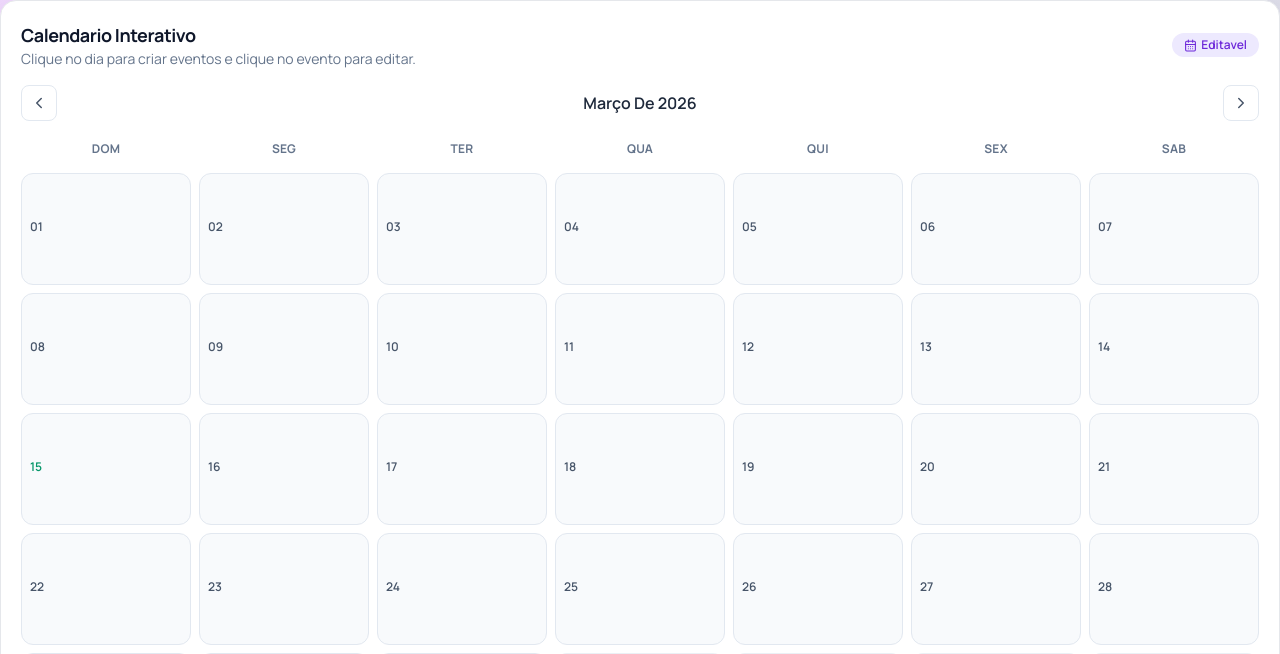
Scenario: InteractiveCalendar › cria um novo evento ao clicar em um dia
Click the 1st button "01". click: (106, 229)
box: [21,173,191,285]
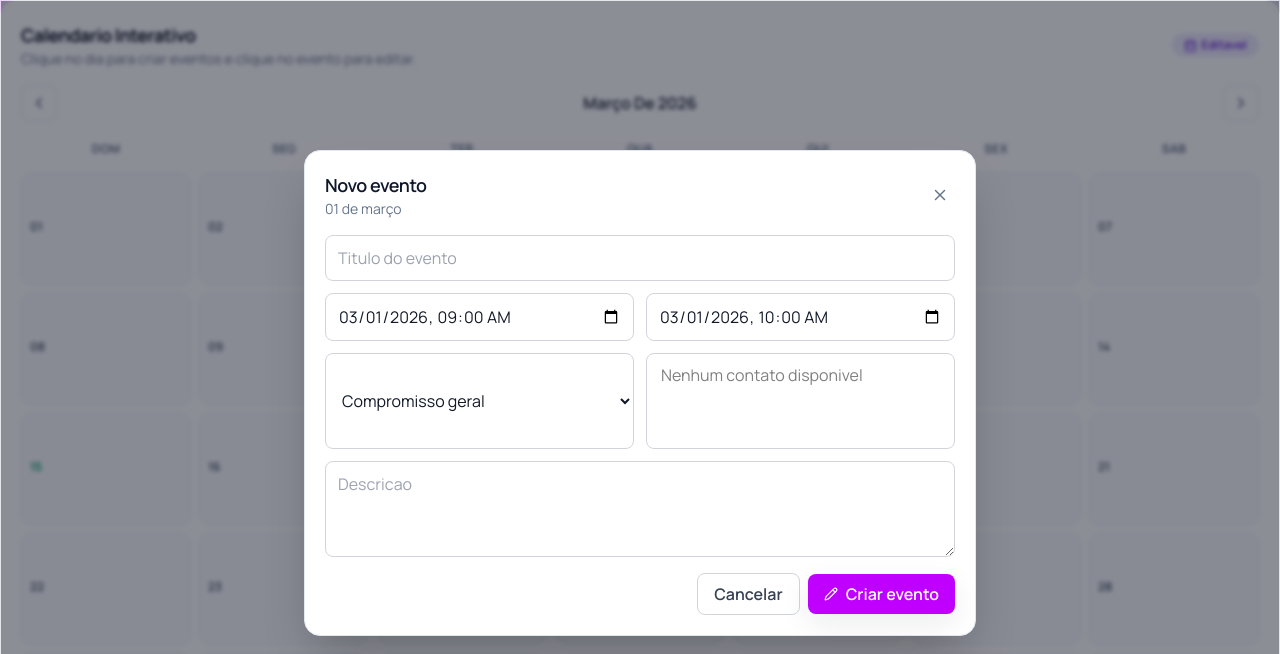
Type "Reuniao de alinhamento" into the field with placeholder "Titulo do evento". click: (640, 258)
box: [325,235,955,281]
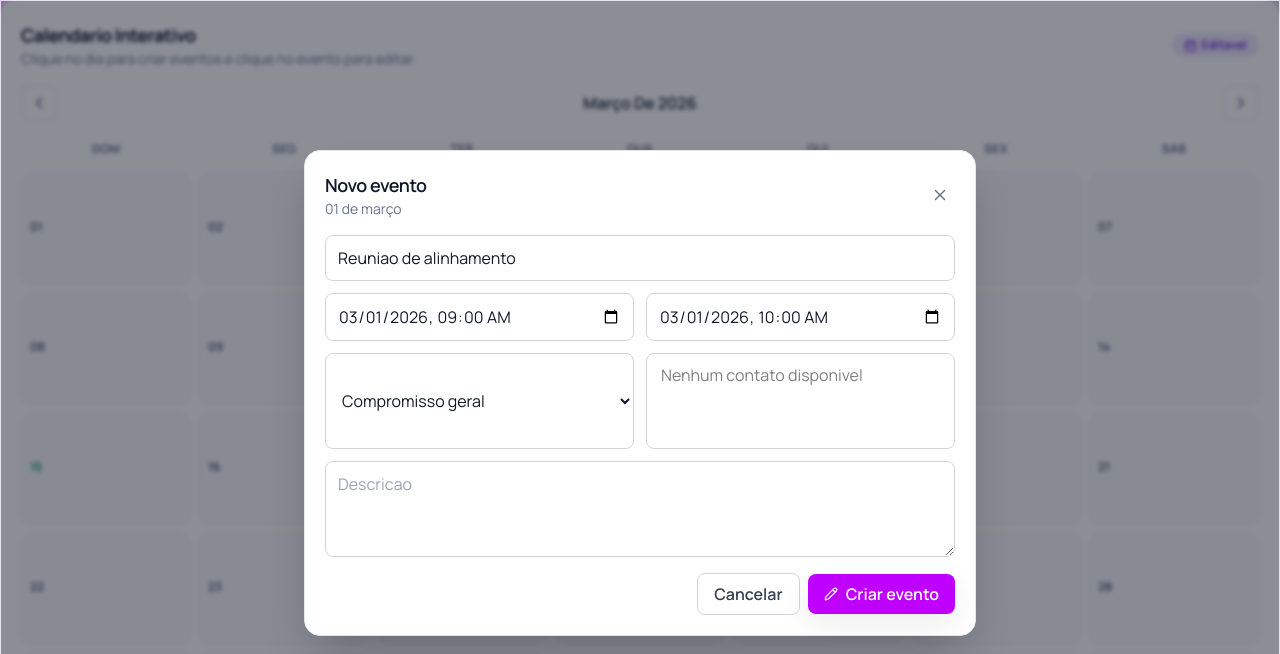
Click the button "Criar evento". click: (881, 594)
box: [808,574,955,614]
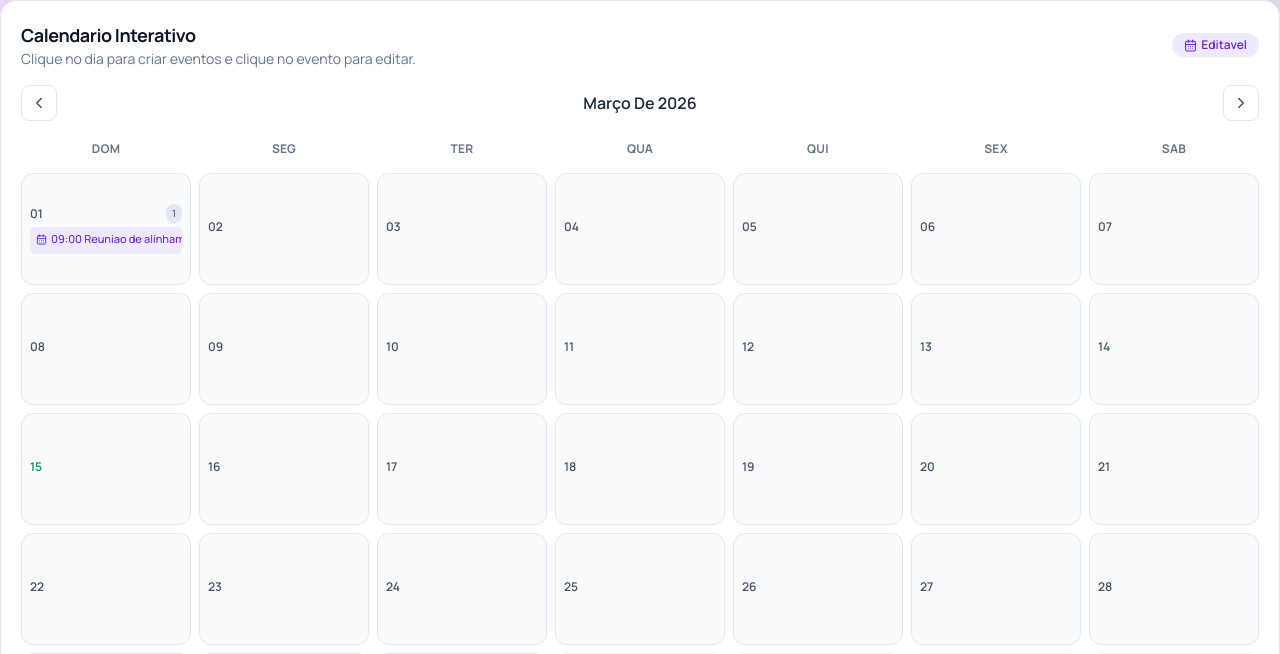
Now the text "09:00 Reuniao de alinhamento" is shown, box [51,231,182,248]
